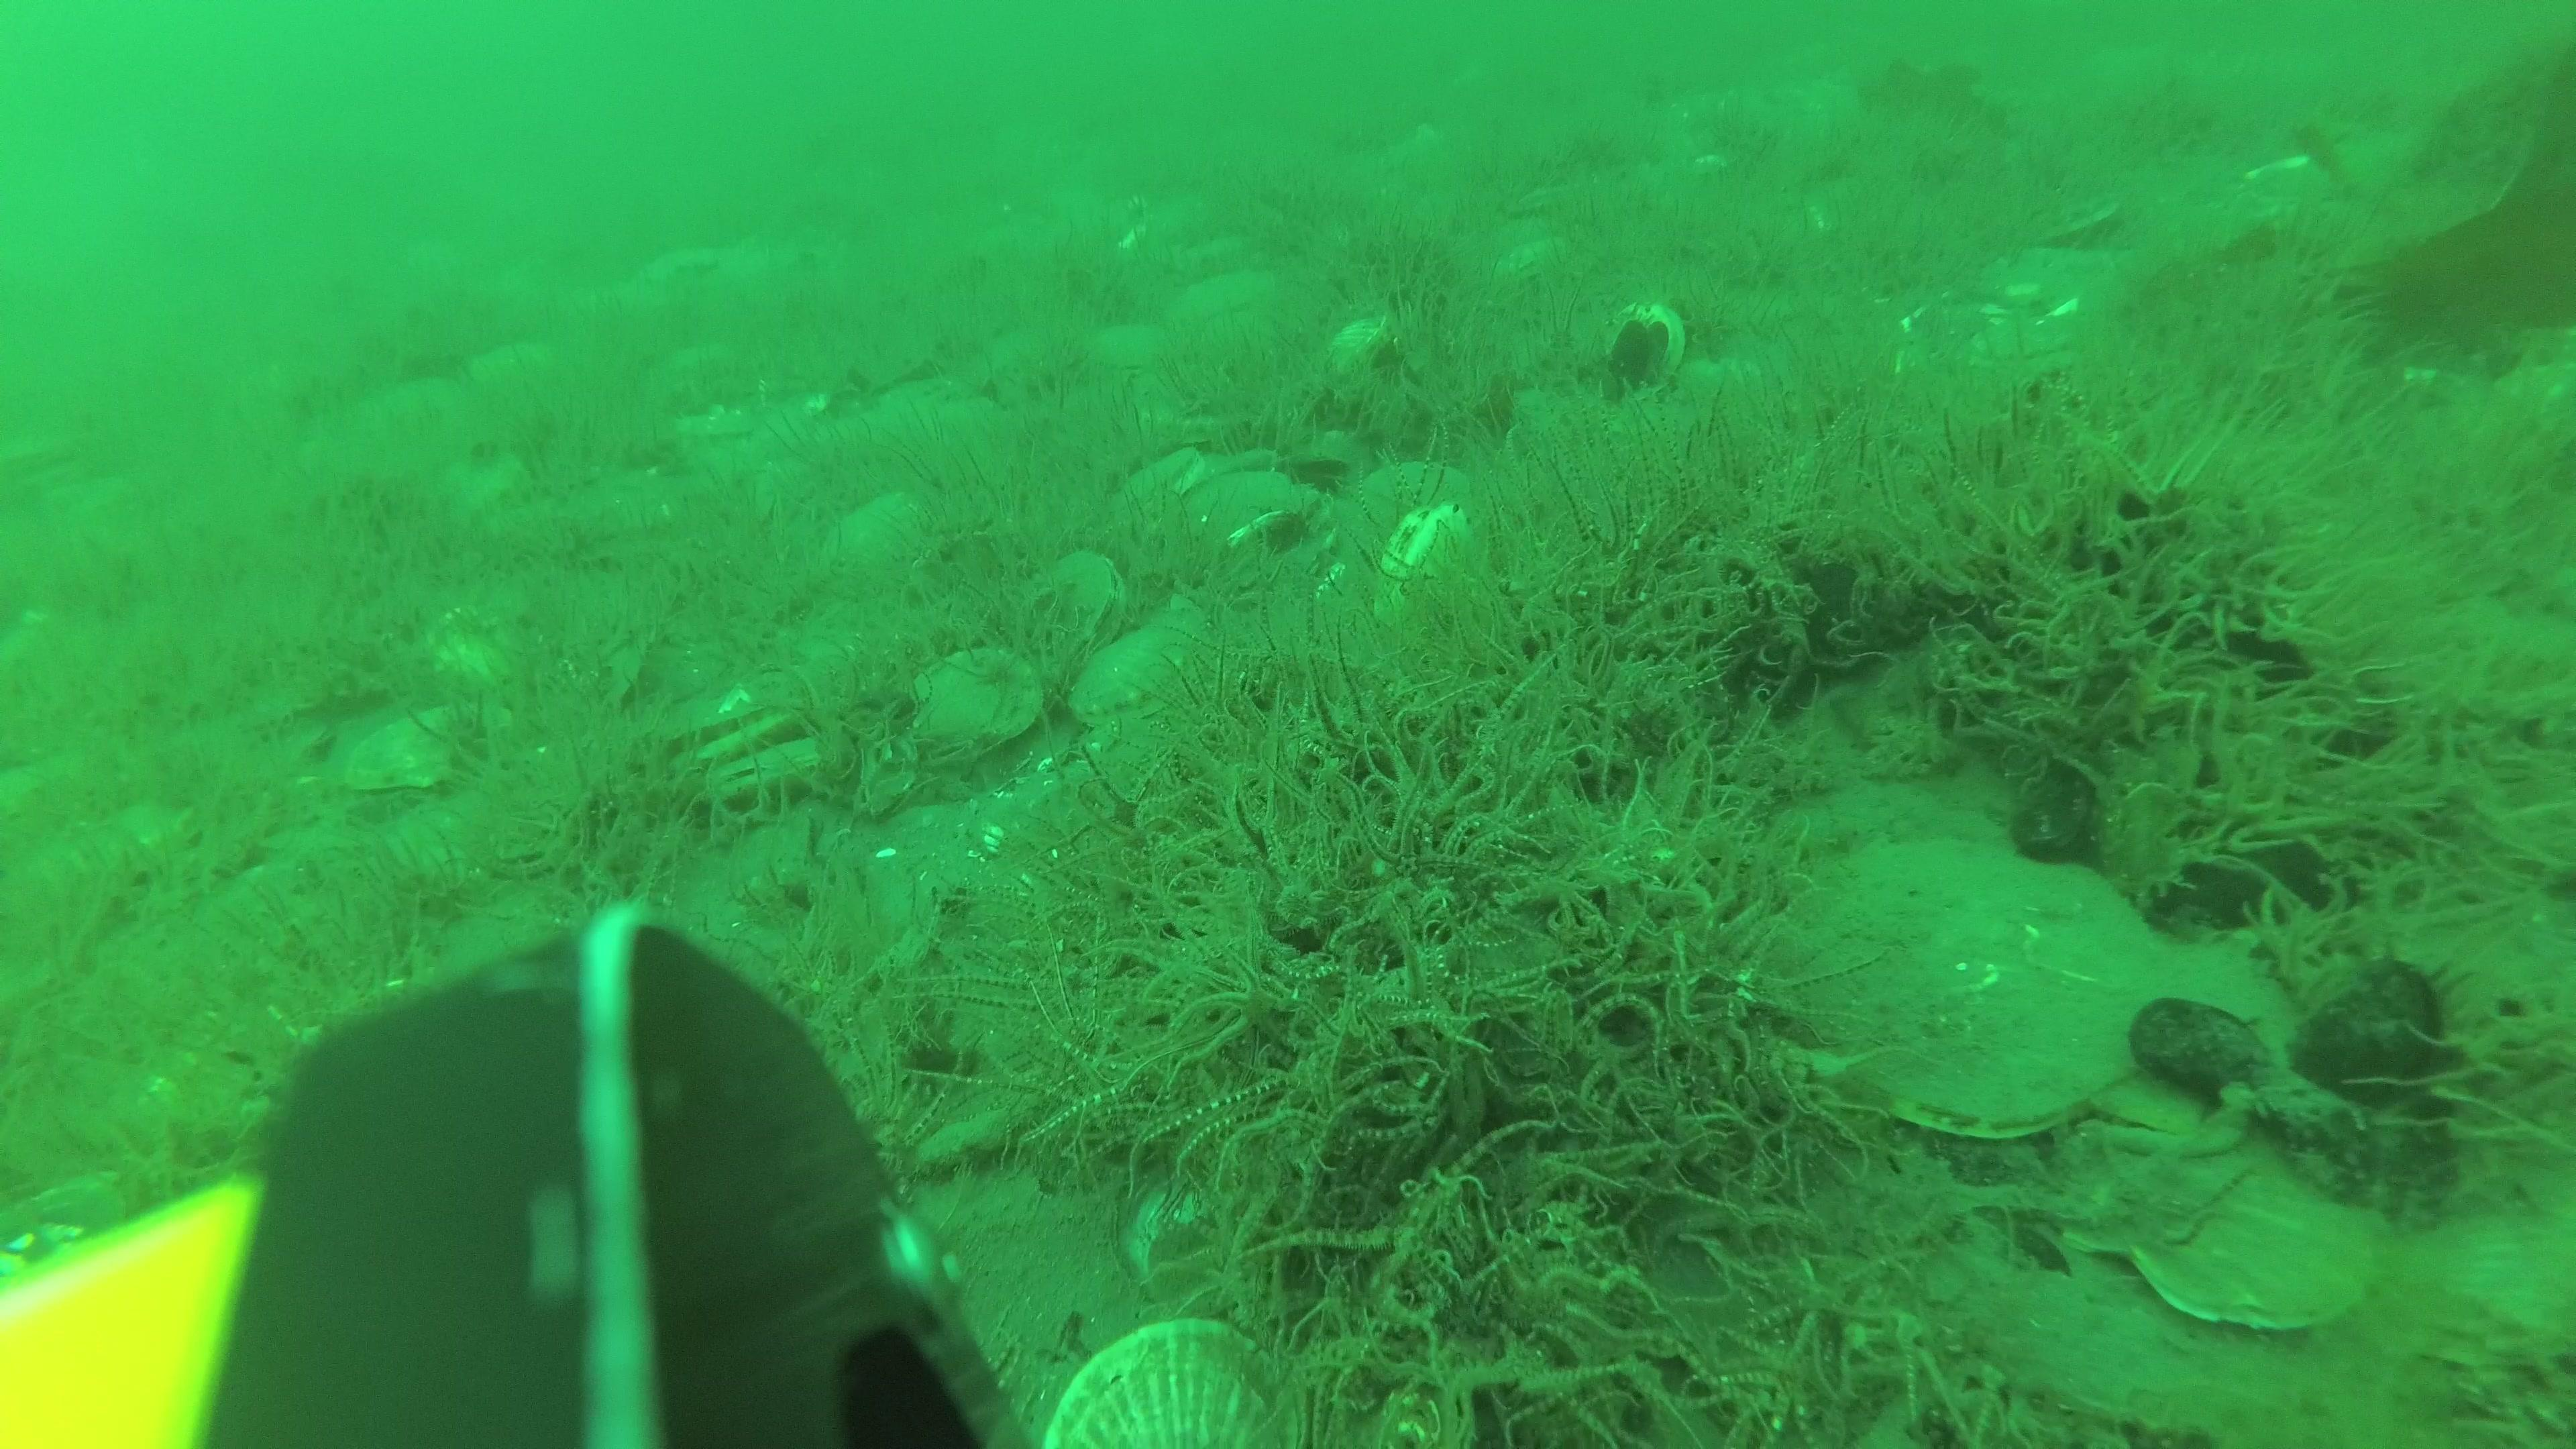scallop: (1780, 832, 2153, 1132), (2143, 1123, 2394, 1338), (2040, 1049, 2270, 1235), (2089, 936, 2293, 1143), (1039, 1311, 1281, 1449), (1132, 1175, 1288, 1309), (901, 640, 1046, 759), (1343, 453, 1483, 570), (357, 702, 506, 796), (911, 655, 1040, 761), (1086, 623, 1187, 740), (1023, 552, 1122, 669), (817, 495, 932, 593), (672, 697, 796, 787), (699, 747, 823, 833), (1185, 472, 1307, 550), (1309, 310, 1403, 396), (1104, 448, 1201, 527), (1169, 272, 1274, 340), (1077, 326, 1168, 380)
